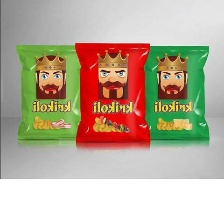snack: (69, 37, 155, 148), (135, 38, 215, 145), (11, 39, 90, 145)
